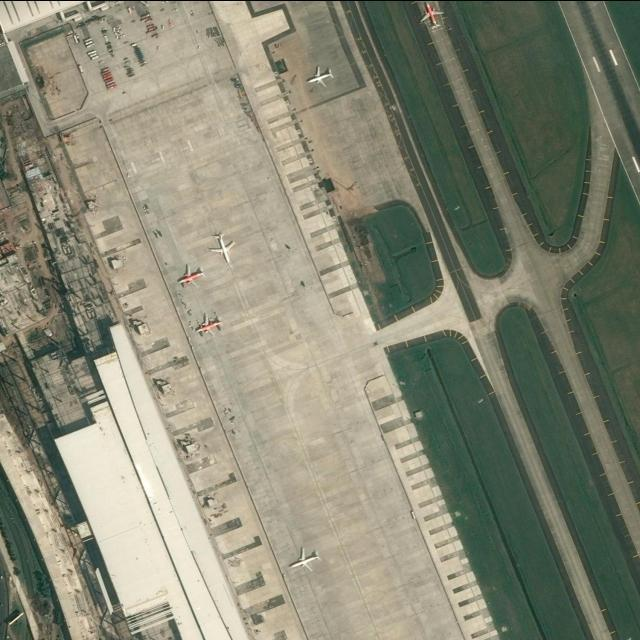Aircraft: (288, 545, 320, 571), (212, 231, 237, 263), (195, 313, 224, 337), (178, 263, 206, 287), (307, 63, 335, 87), (422, 1, 446, 28)
